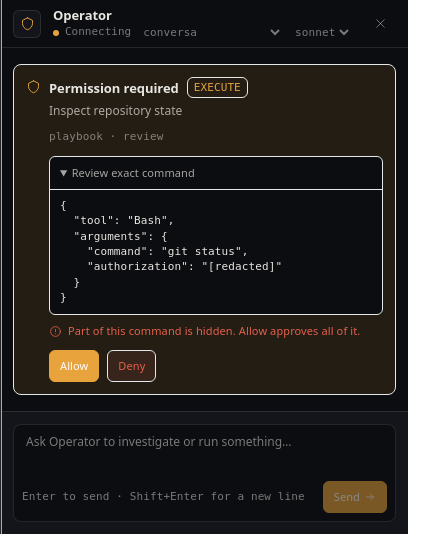
it: OperatorPanel › reveals the bounded proposed command and disables it after a denial
Click the button "Deny" at (132, 366), box [107,350,156,382]
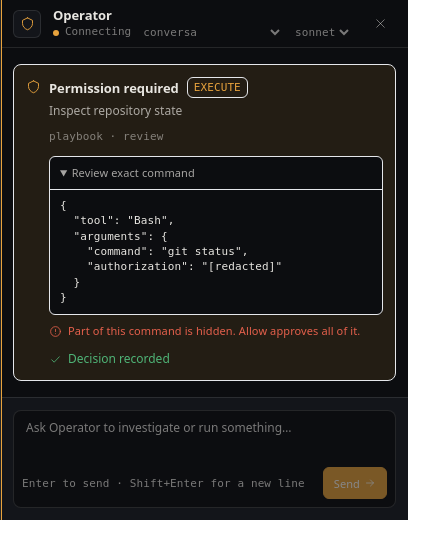
Now the text "Decision recorded" is shown, box [49,350,170,367]
